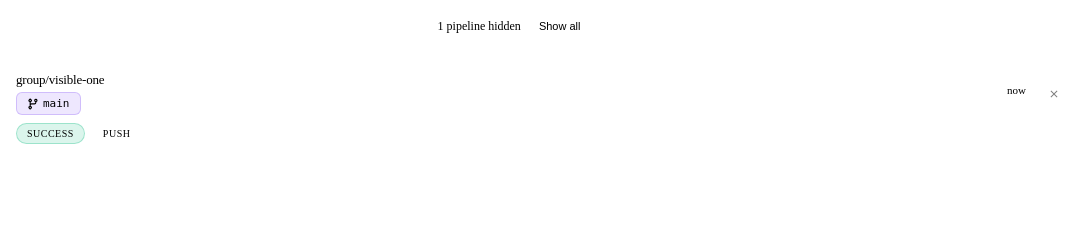
Test: PipelinesTab › shows the dismissed-notice with a "Show all" button that calls restorePipelines
Expected: the text "1 pipeline hidden" is shown, x1=438 y1=18 x2=521 y2=34
Expected: the text "group/visible-one" is shown, x1=16 y1=72 x2=104 y2=87
Click the button "Show all": x=560, y=26 x1=529 y1=16 x2=590 y2=36
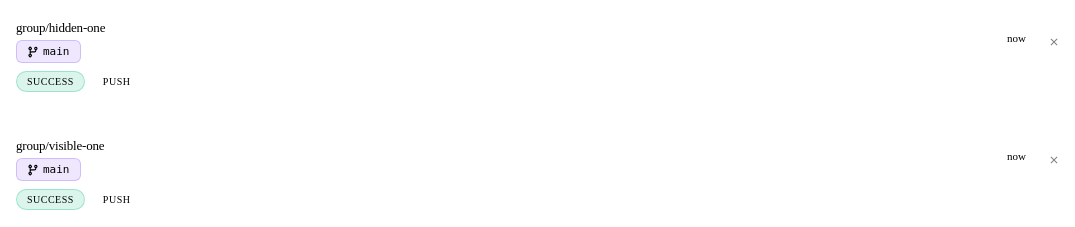
Expected: the text "group/hidden-one" is shown, x1=16 y1=20 x2=105 y2=35
